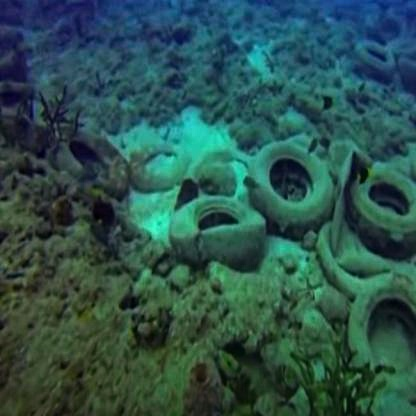tire: (254, 139, 341, 247), (338, 275, 416, 392), (169, 174, 262, 270), (345, 159, 416, 274), (53, 116, 135, 210)
